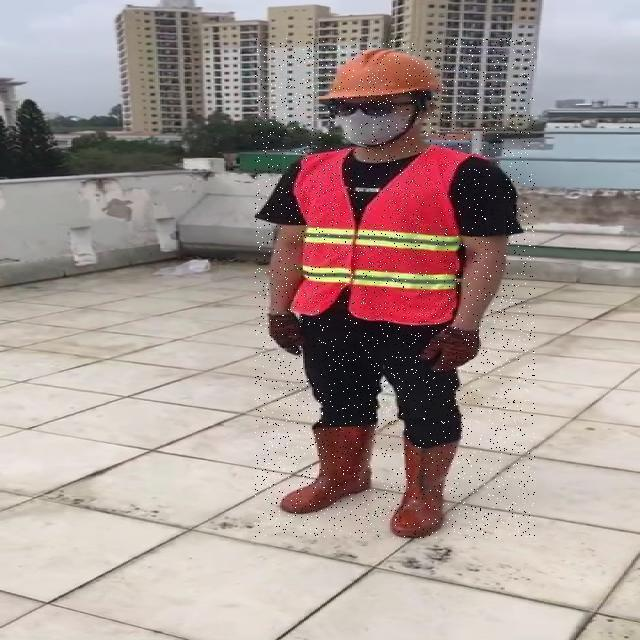helmet: (315, 45, 443, 102)
safety_vest: (286, 149, 468, 323)
